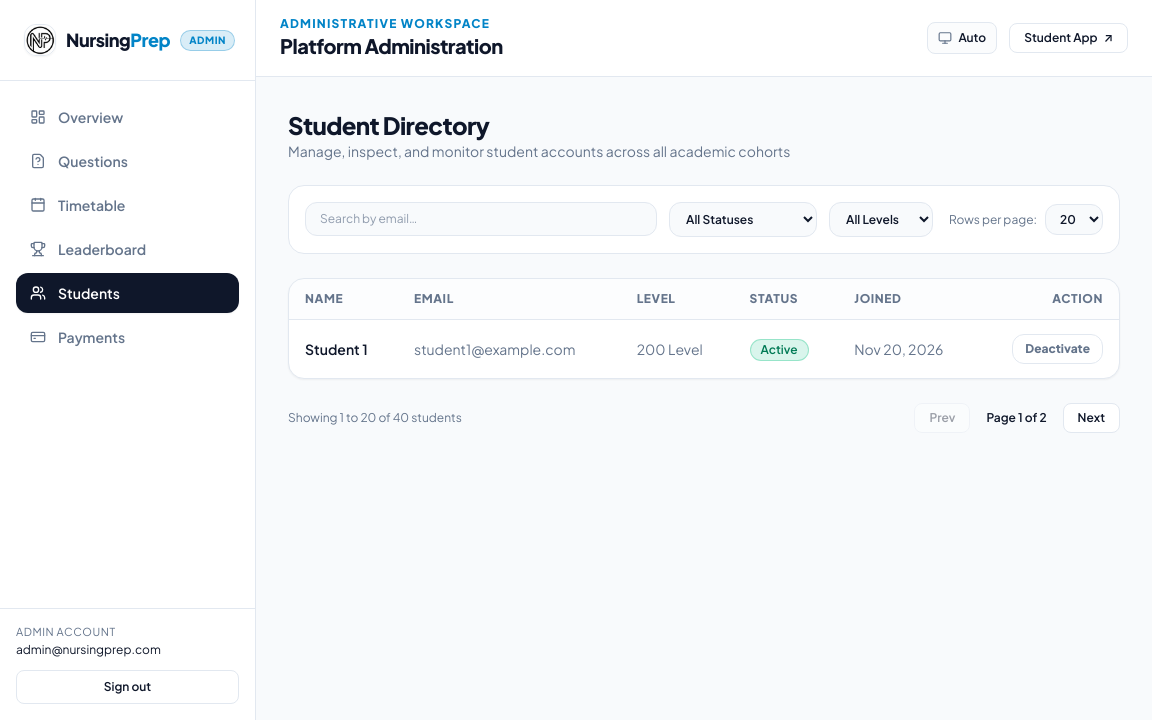
Test: AdminStudentsPage Tests › pagination proof: Next is disabled on the last page
Expected: the text "Page 1 of 2" is shown, top-left (986, 410), bottom-right (1047, 425)
Advance to page 2 (last page)
What coordinates should you click on to do the following:
click the button with aria-label "Next page"
I would click on:
 (1091, 418)
Its box is top-left (1063, 403), bottom-right (1120, 433).
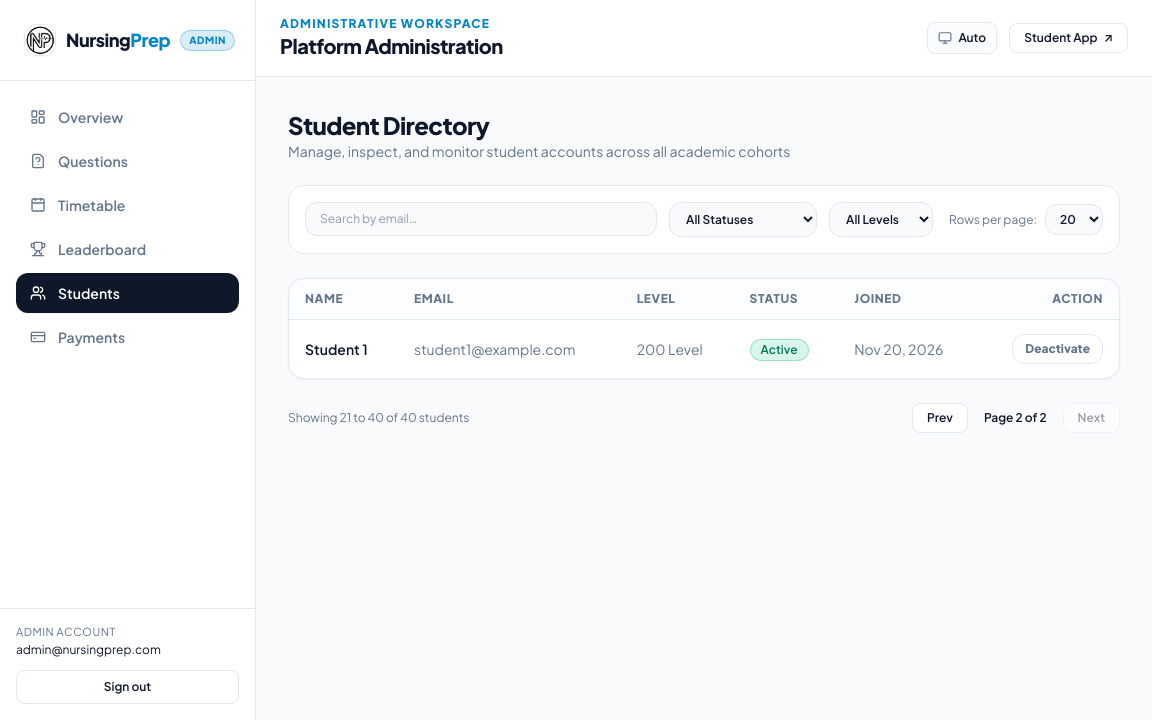
Expected: the text "Page 2 of 2" is shown, top-left (984, 410), bottom-right (1047, 425)
Expected: the button with aria-label "Next page" is disabled, top-left (1063, 403), bottom-right (1120, 433)
